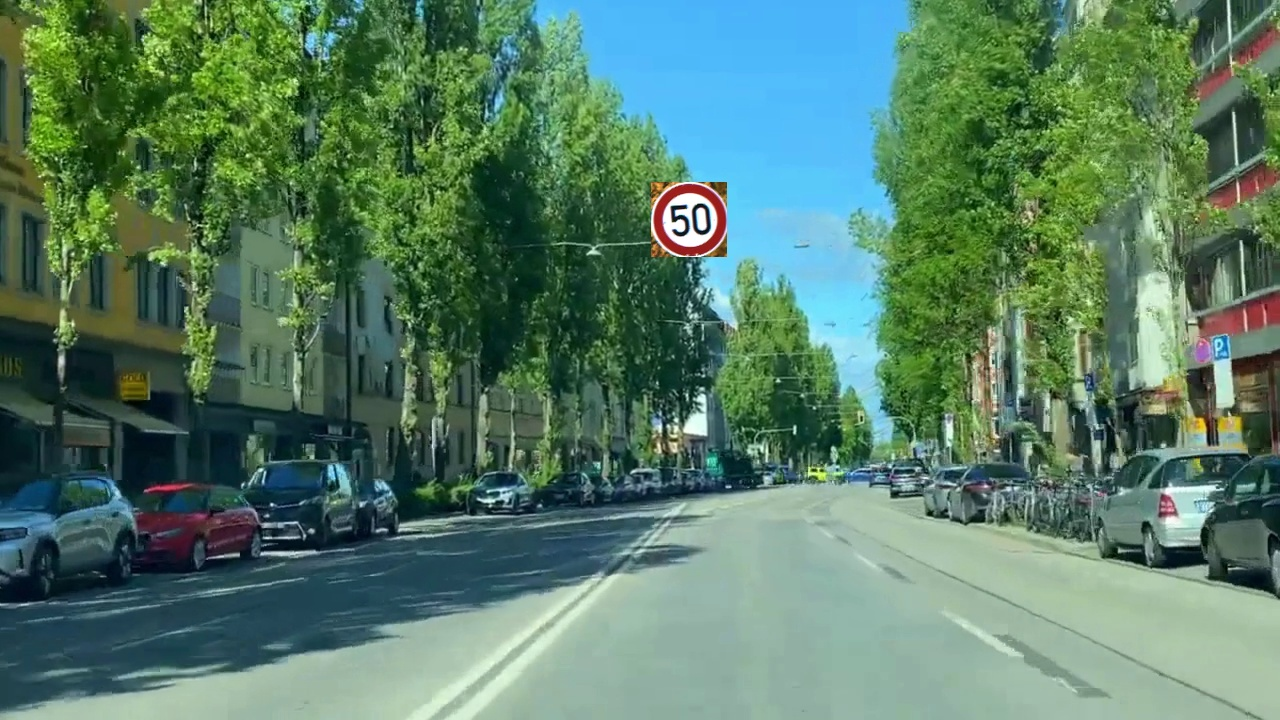Speed 50: (651, 182, 727, 257)
